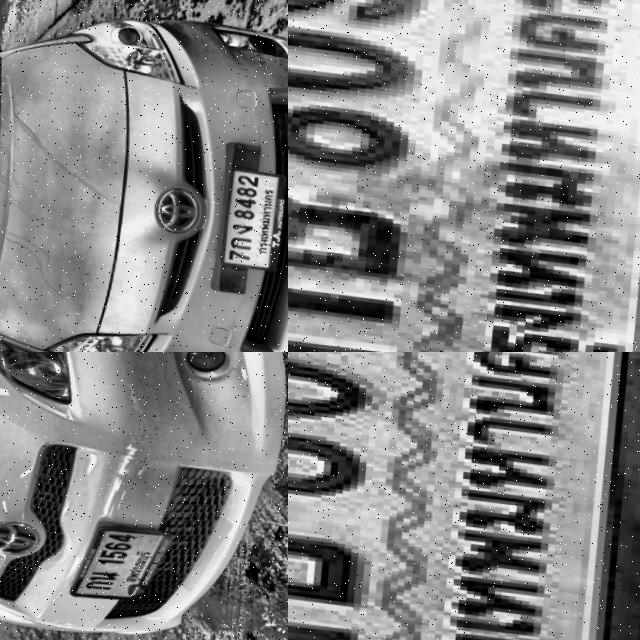license-plate: (288, 0, 640, 352), (288, 352, 640, 640), (63, 514, 177, 607), (213, 163, 288, 267)
